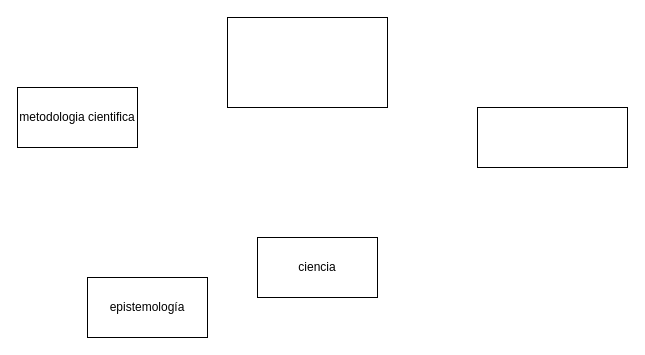
The diagram is 645 pixels wide and 355 high, and some of its shapes have lost their labels. Here are the shapes that lost their labels. From the top down, the centre of each, then its label:
At pixel 307 62: "conocimiento cientifico".
At pixel 552 137: "investigacion cientifica".
